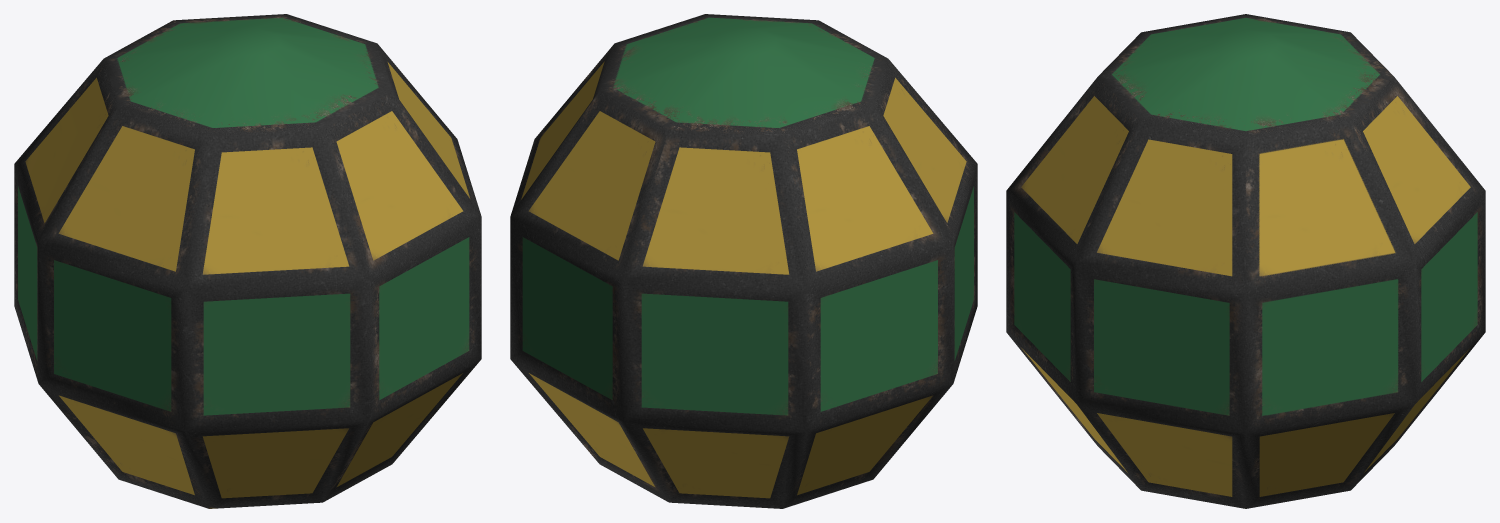
Rendered from Ball_2.fbx.
3 views of the same model, side by side, from view 1: azimuth 30°, elevation 25°; view 2: azimuth 150°, elevation 25°; view 3: azimuth 270°, elevation 25° (orthographic).
Parts seen in each view (by area): view 1: Ball; view 2: Ball; view 3: Ball.
Boxes of the visible parts, bbox=[...] form: Ball: bbox=[14, 14, 481, 508]; Ball: bbox=[510, 14, 977, 508]; Ball: bbox=[1006, 14, 1485, 508].
Bounding box in the file's own units: 1.9 × 1.9 × 1.9.
